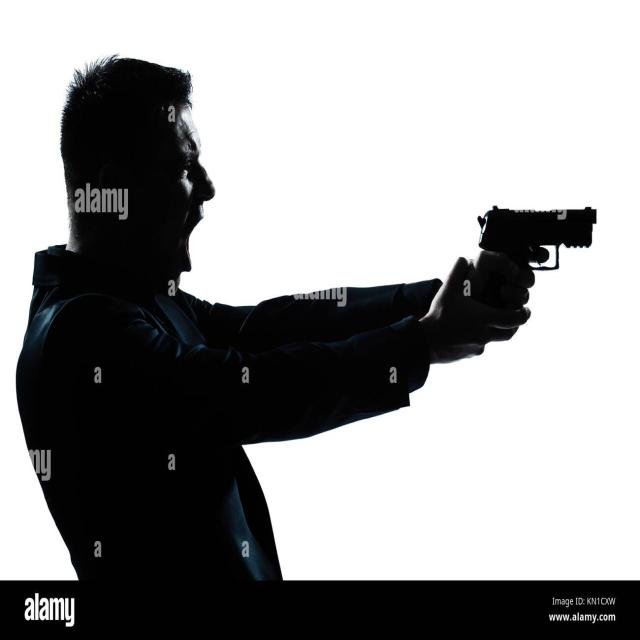HandGun: (477, 206, 597, 270)
